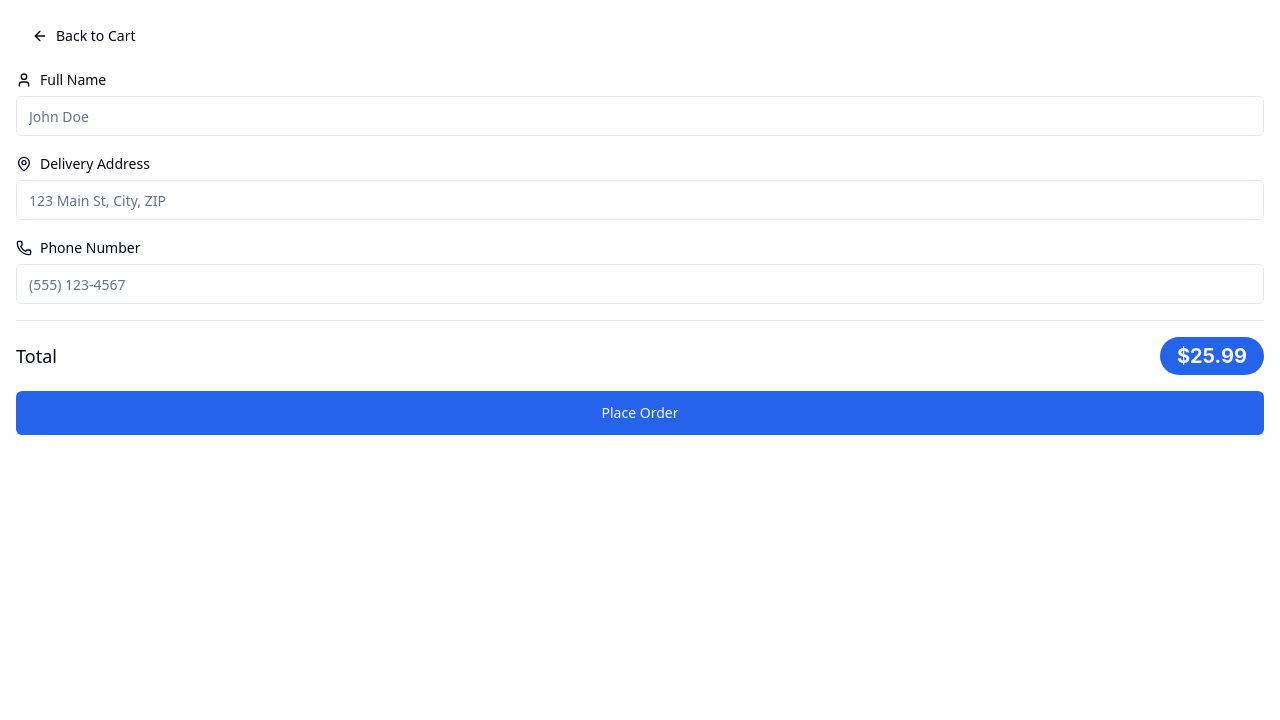
Scenario: CheckoutForm › displays validation errors for empty fields
What coordinates should you click on to do the following:
click the button "Place Order"
I would click on:
 (640, 413)
Its box is [16, 391, 1264, 435].
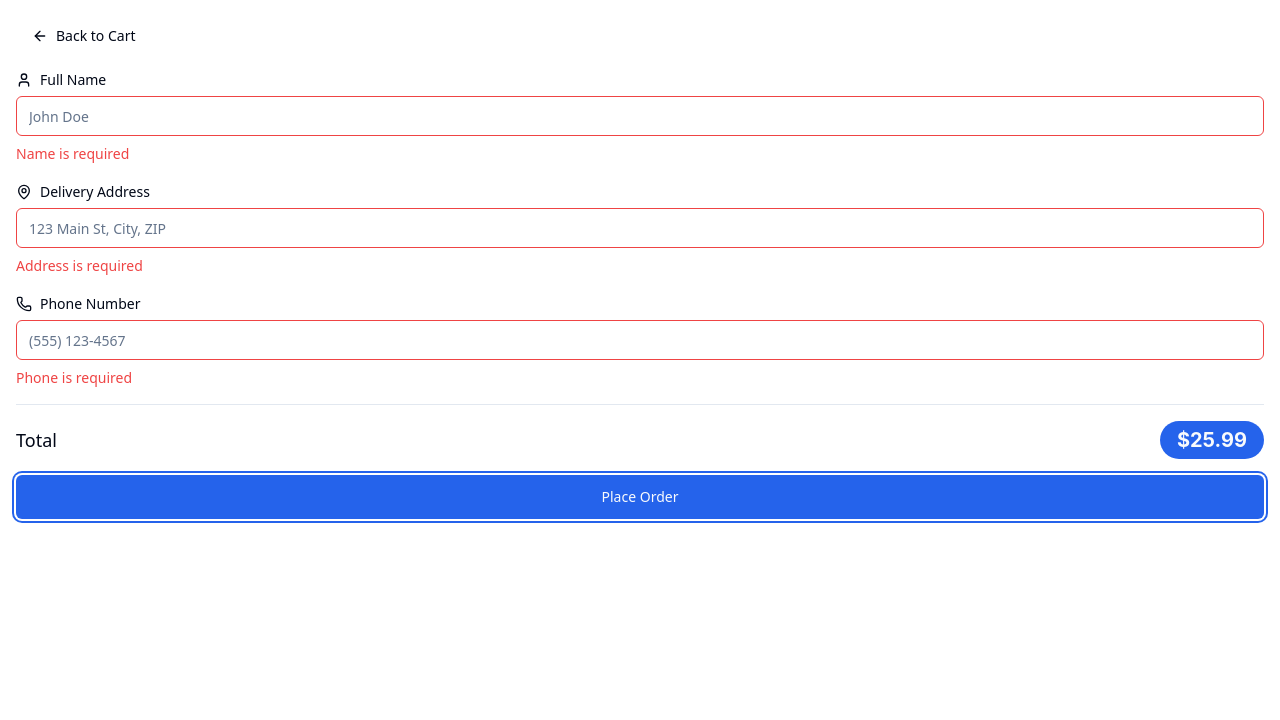
Result: the text "Name is required" is shown at [16, 144, 129, 163]
Result: the text "Address is required" is shown at [16, 256, 143, 275]
Result: the text "Phone is required" is shown at [16, 368, 132, 387]
